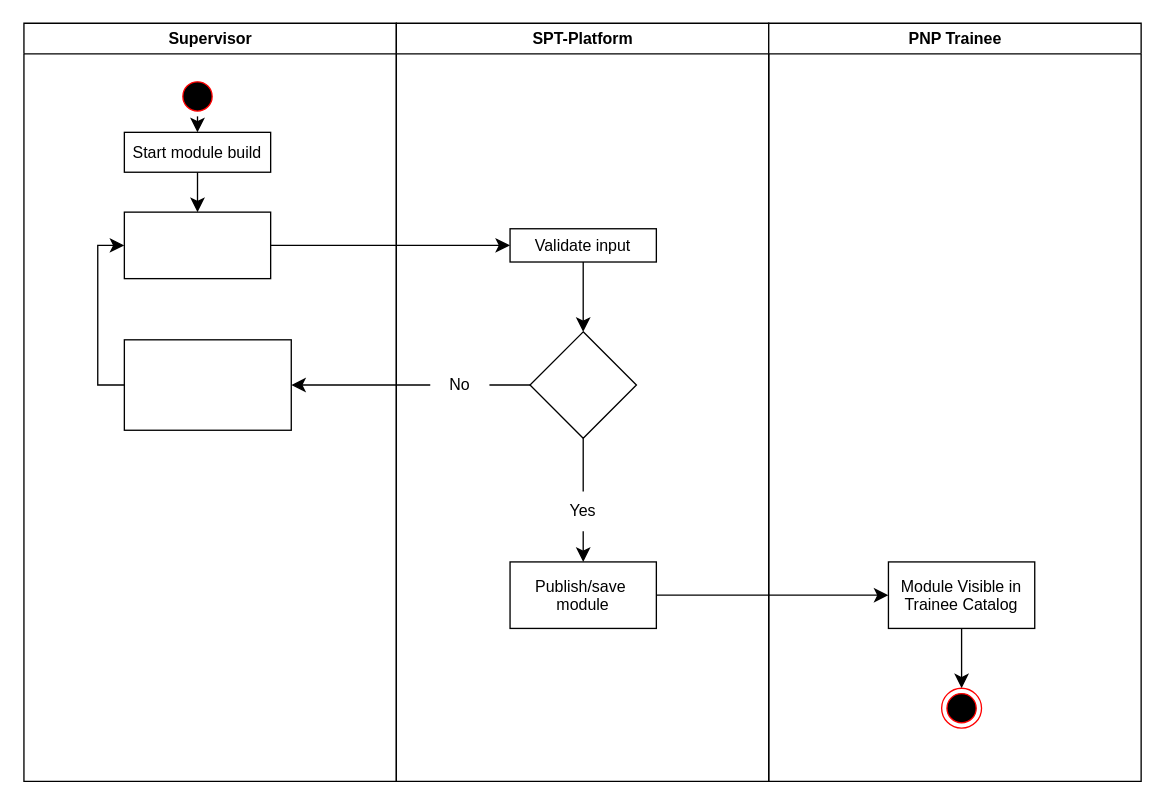
Some shapes in this 1164 by 805 pixel diagram are drawn without their labels. Each missing label, with the centre of its shape:
"Add lessons & Exam Questions" goes at point 197,245.
"are inputs valid?" goes at point 582,384.
"Block Publish & List Missing Parts/show error code" goes at point 207,384.
